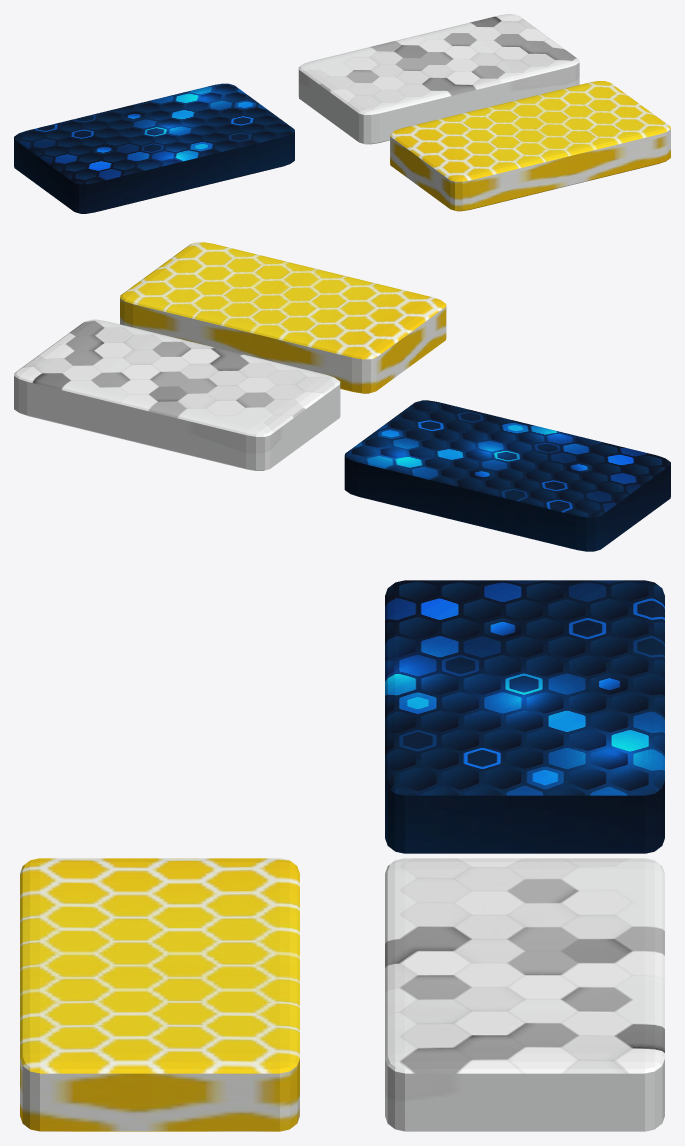
File: hexagon road.fbx
3 renders of one model, top to bottom at view 1: azimuth 30°, elevation 25°; view 2: azimuth 150°, elevation 25°; view 3: azimuth 270°, elevation 25°, orthographic. The views are drawn at different scales.
Parts seen in each view (by area): view 1: Cube.032, Cube.034, Cube.033; view 2: Cube.032, Cube.033, Cube.034; view 3: Cube.032, Cube.033, Cube.034.
Part boxes in pixels (x1,y1,x2,y2): Cube.032: [14, 83, 294, 213]; Cube.034: [390, 81, 670, 211]; Cube.033: [298, 14, 579, 144]; Cube.032: [344, 400, 670, 551]; Cube.033: [14, 319, 340, 470]; Cube.034: [120, 242, 446, 393]; Cube.032: [385, 580, 664, 853]; Cube.033: [385, 858, 664, 1131]; Cube.034: [20, 858, 299, 1131].
Size of the model in its own units: 4288 by 274 by 2372.
Materials: 3 (3 with a texture image).
